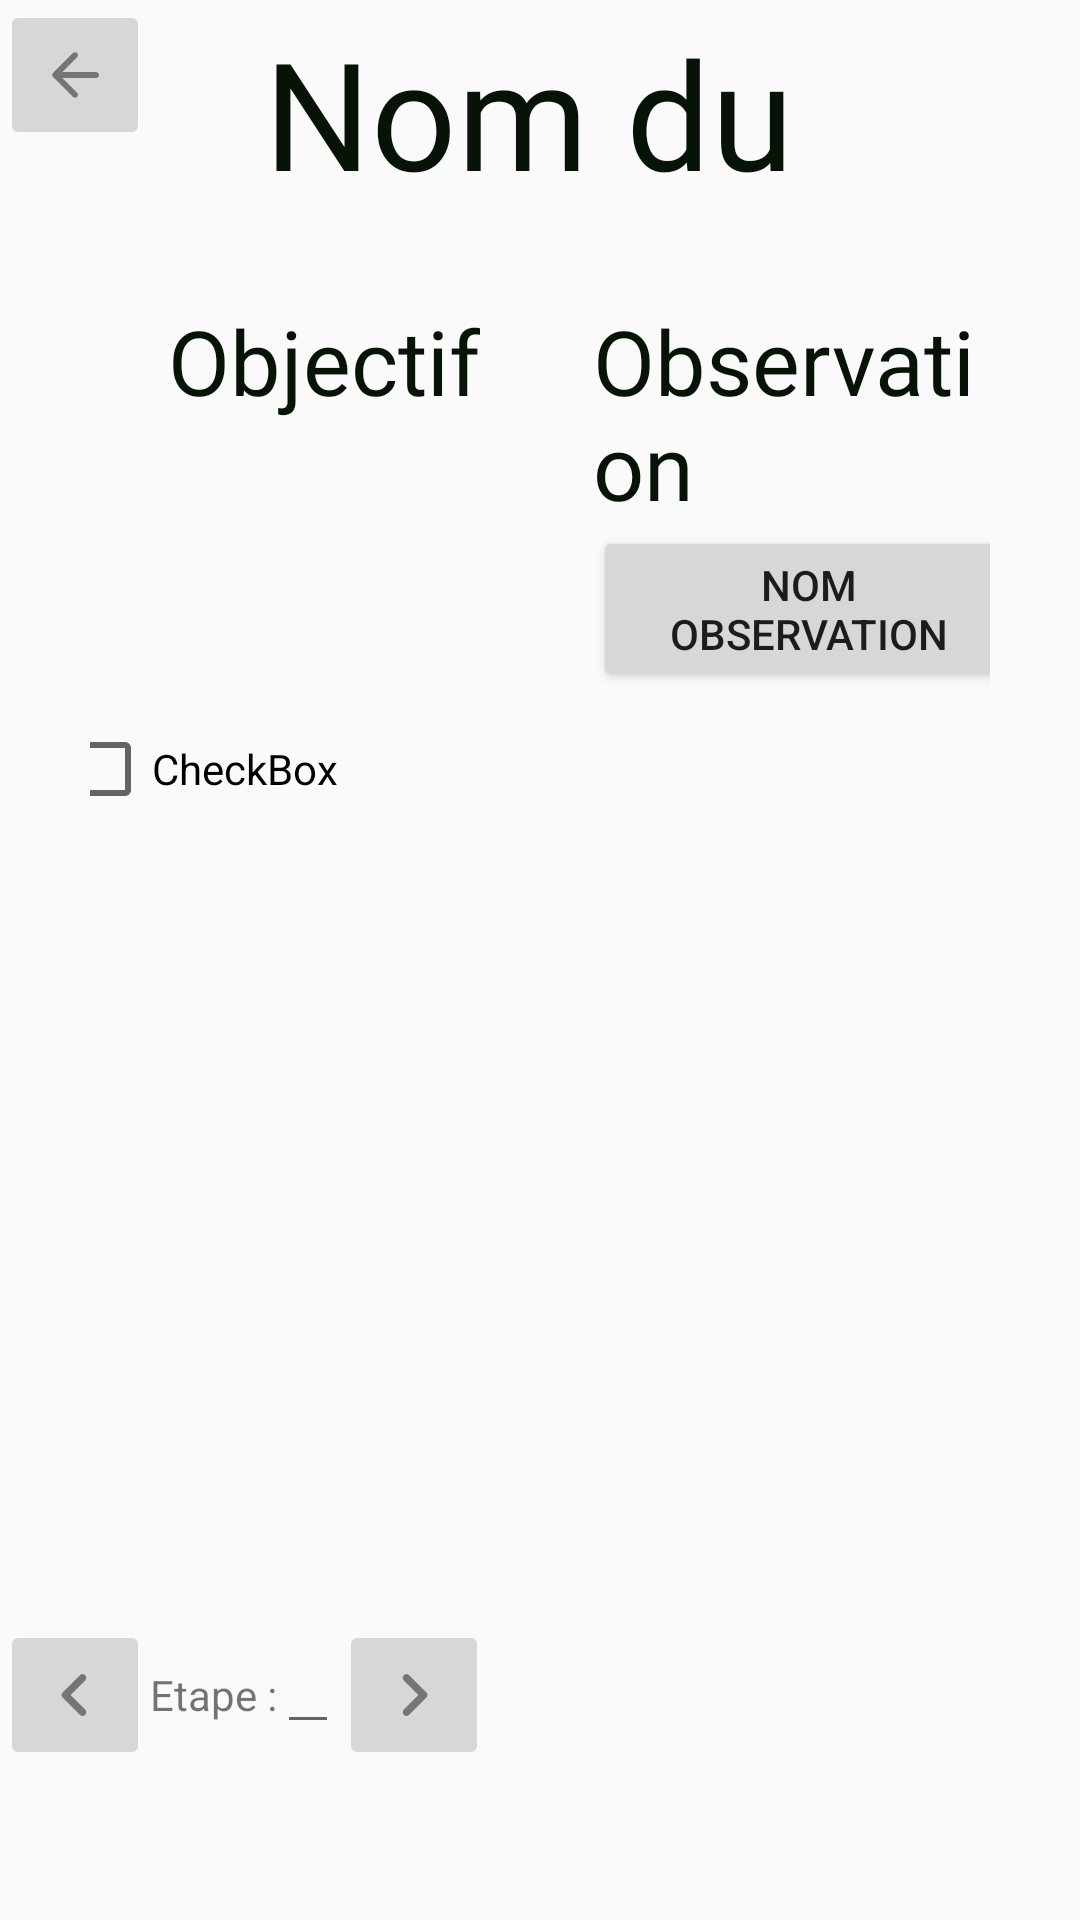

Where icons sit on this 1080×1920 app screen, as (x1, y1, x2, y2):
back: (12, 18, 138, 132)
